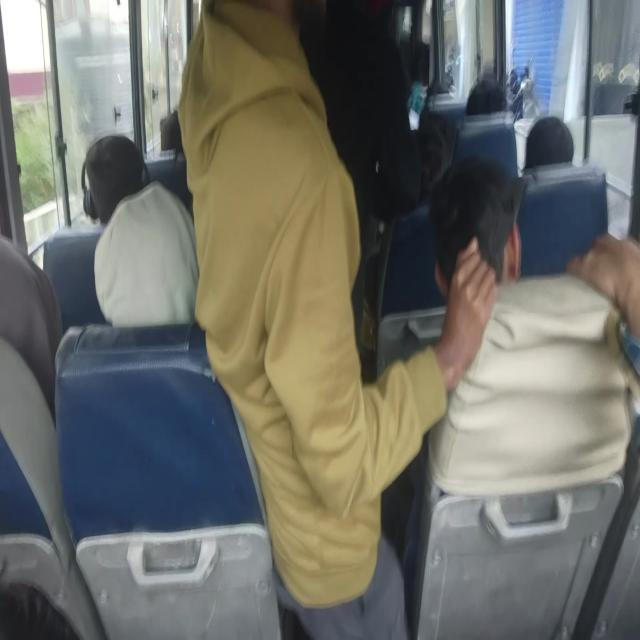person: (187, 0, 342, 439), (310, 0, 418, 228), (434, 181, 558, 332), (96, 186, 174, 331), (0, 263, 61, 371), (82, 119, 141, 204), (11, 582, 88, 640), (519, 114, 576, 183), (150, 92, 193, 136), (464, 82, 509, 121), (427, 72, 449, 94)
